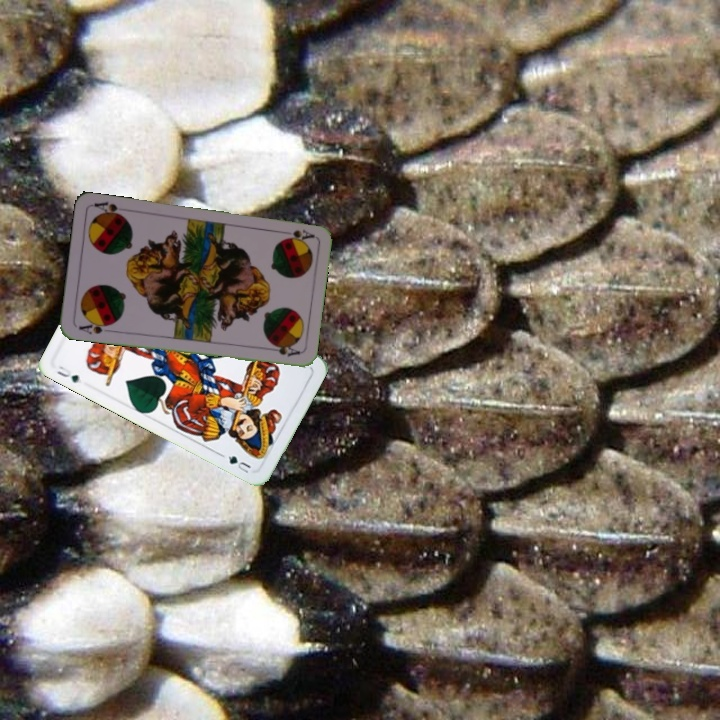GU: (52, 362, 81, 386)
SA: (75, 317, 115, 337), (280, 226, 316, 243)
